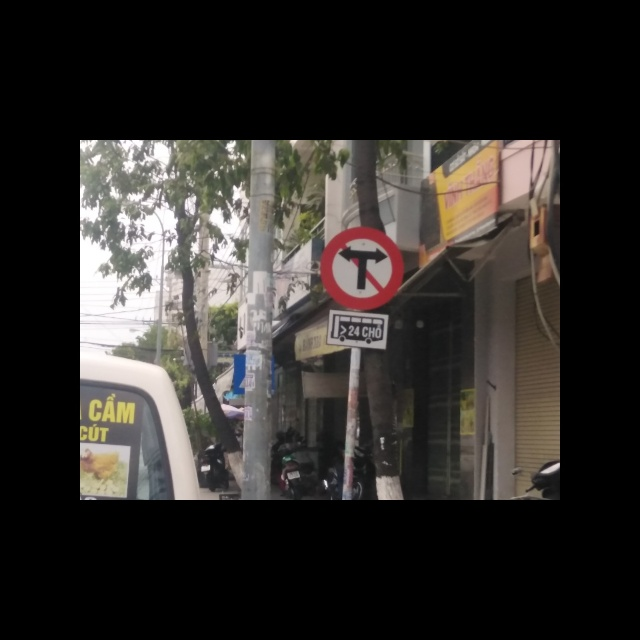Cấm rẽ trái và rẽ phải: (322, 225, 408, 311)
